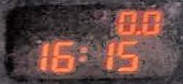-: (133, 28, 140, 34)
0: (116, 10, 136, 35), (141, 9, 160, 34)
1: (38, 41, 48, 70), (104, 41, 114, 69)
5: (115, 40, 137, 71)
6: (50, 40, 73, 71)
X: (78, 46, 86, 61)
